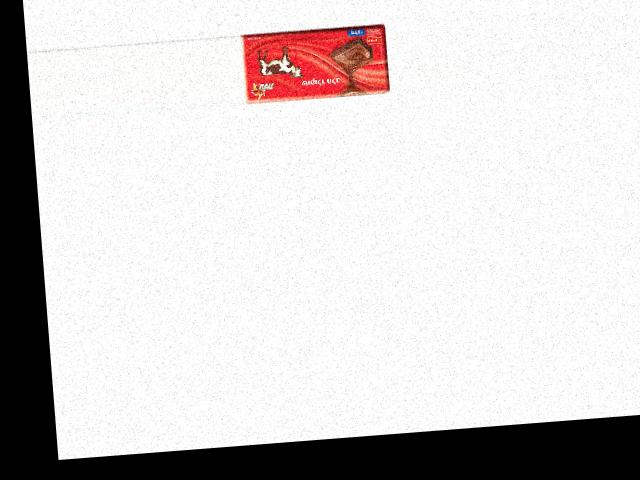chocolate: (239, 24, 391, 104)
